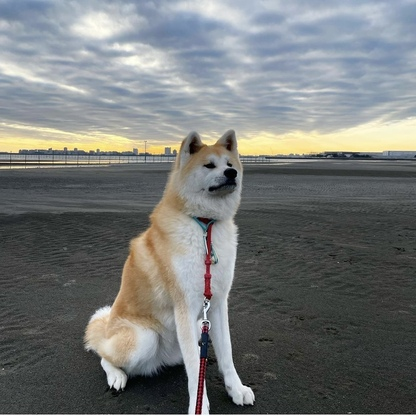akita: (77, 122, 260, 416)
